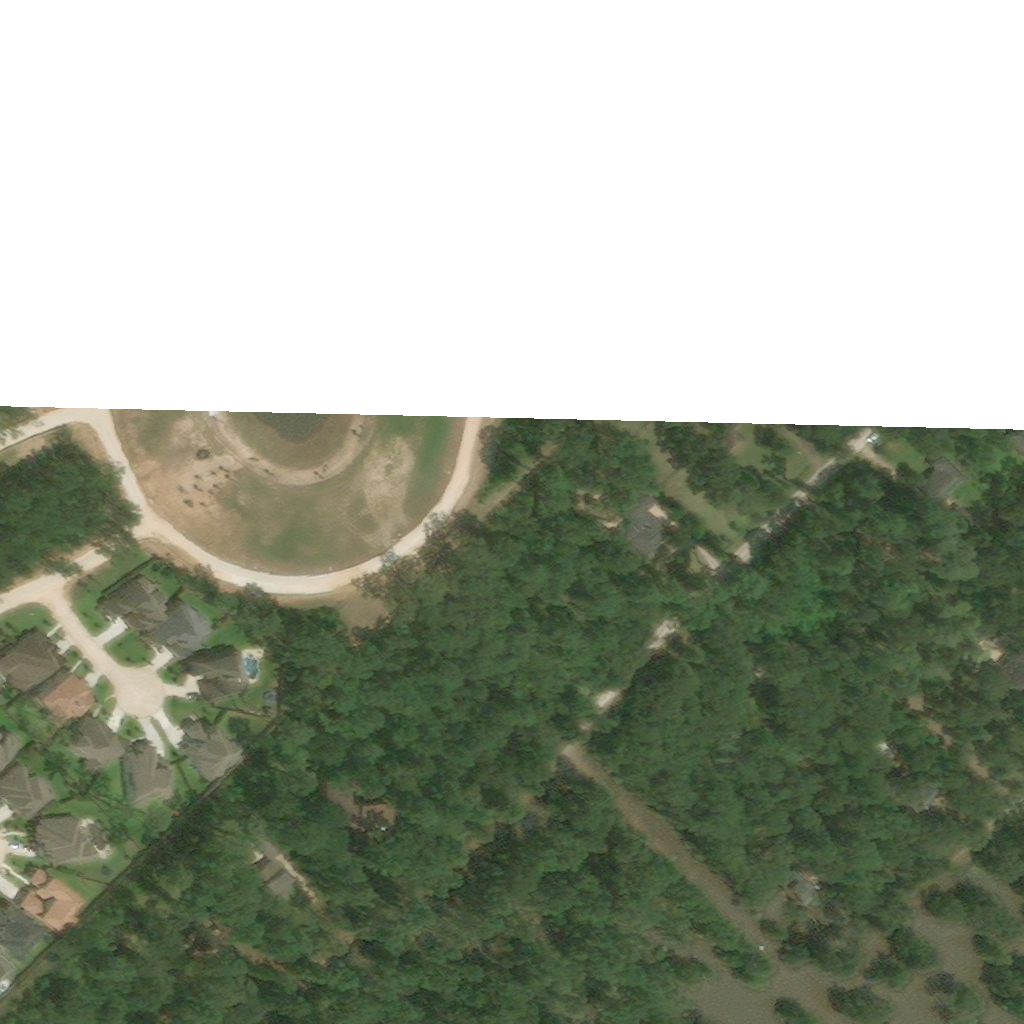major_damage: (949, 606, 1005, 655), (979, 645, 1019, 700), (770, 862, 809, 900), (894, 768, 929, 805)
no_damage: (99, 572, 169, 635), (320, 771, 401, 825), (142, 601, 212, 663), (15, 865, 78, 933), (29, 663, 91, 729), (177, 719, 240, 783), (0, 628, 61, 694), (186, 644, 253, 704), (701, 411, 753, 475), (0, 757, 50, 822), (915, 451, 968, 509), (63, 710, 120, 759), (248, 825, 289, 893), (29, 814, 87, 862), (123, 741, 162, 808), (621, 489, 662, 548), (0, 898, 39, 960), (0, 727, 19, 765), (0, 947, 16, 986), (1005, 422, 1022, 451), (243, 815, 262, 834), (619, 471, 633, 488), (267, 710, 276, 720)
unclassified: (181, 895, 240, 979)
